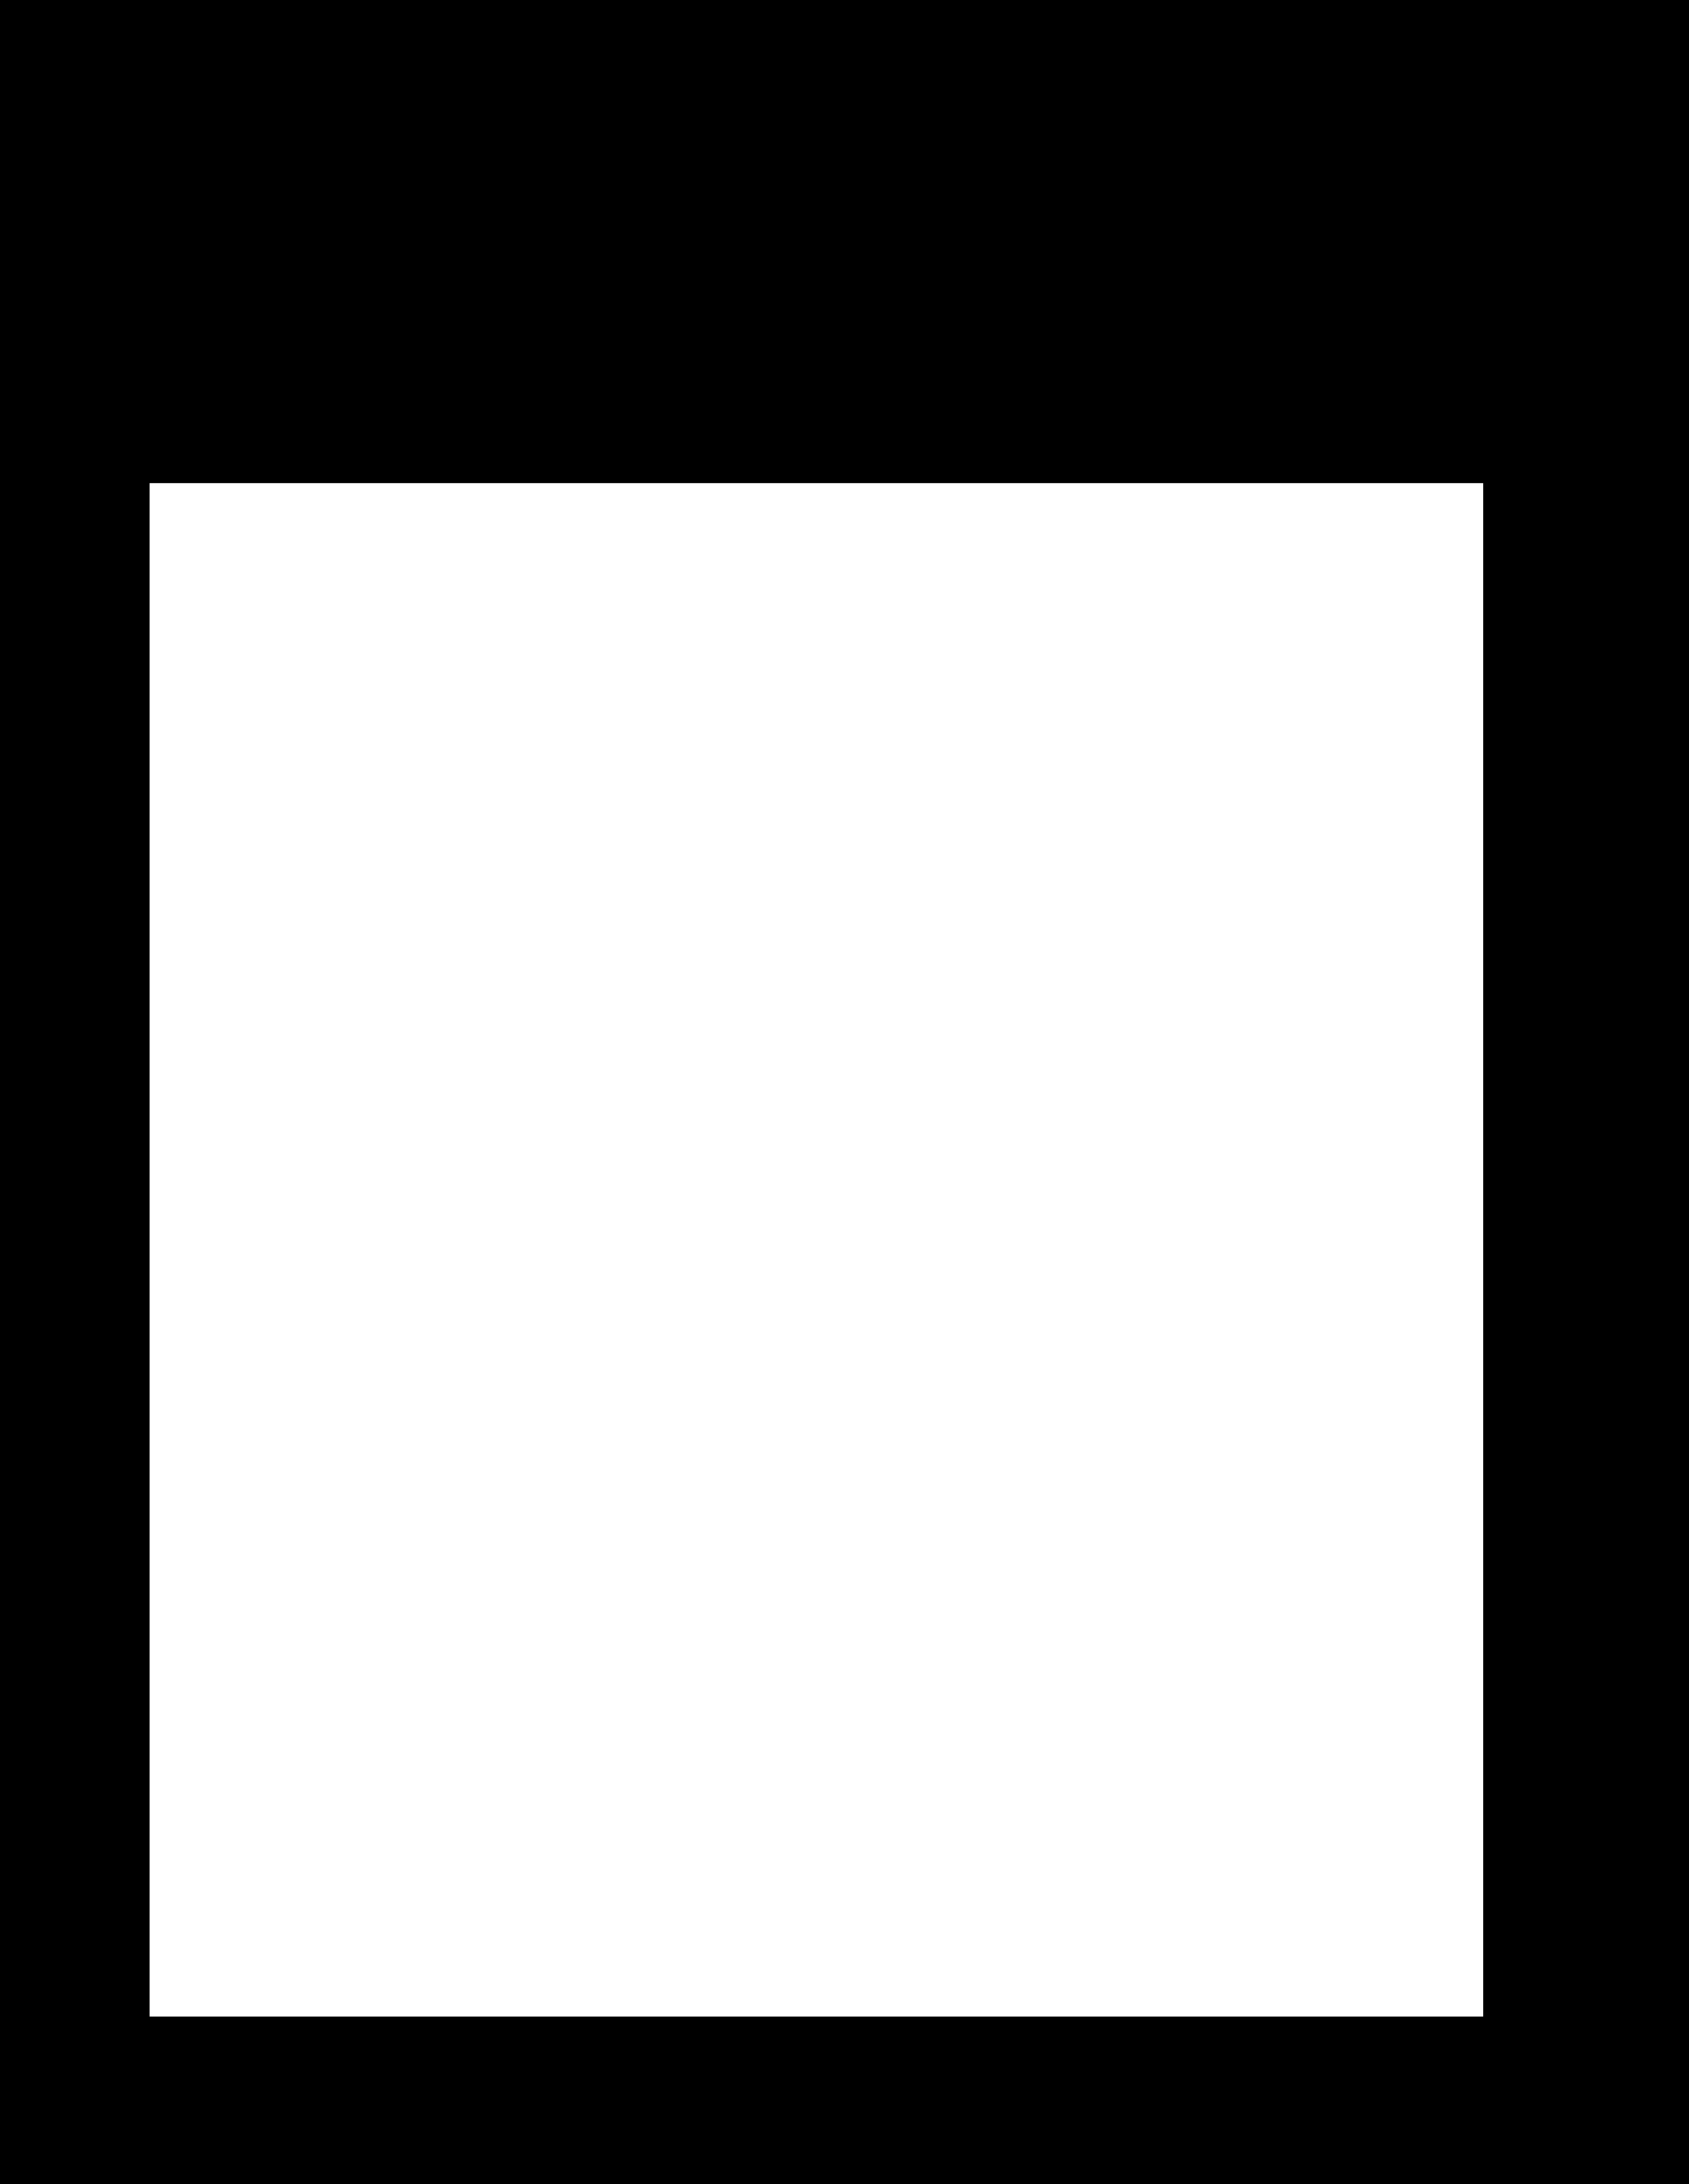table: (149, 484, 1482, 2016)
